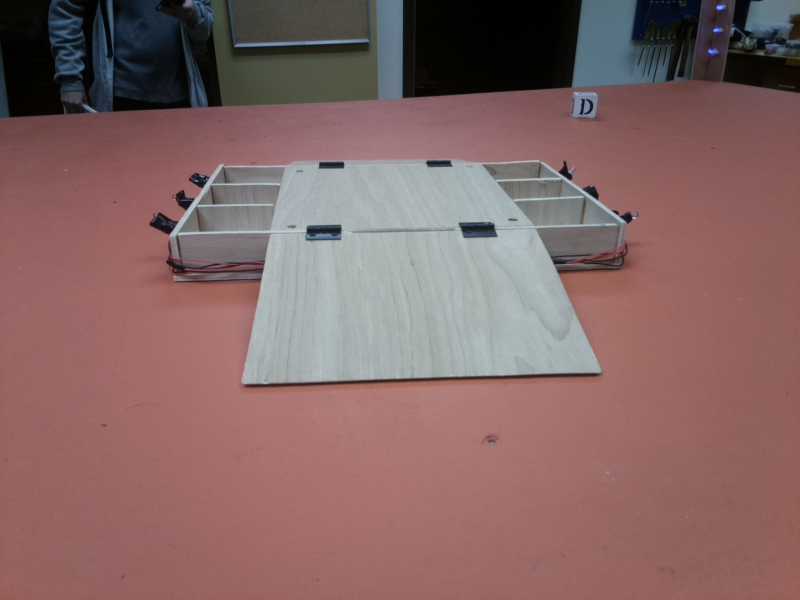blockD: (571, 93, 596, 121)
corner: (687, 1, 741, 87)
side: (148, 153, 286, 291), (484, 158, 639, 272)
slope: (233, 231, 600, 392), (287, 156, 481, 168)
